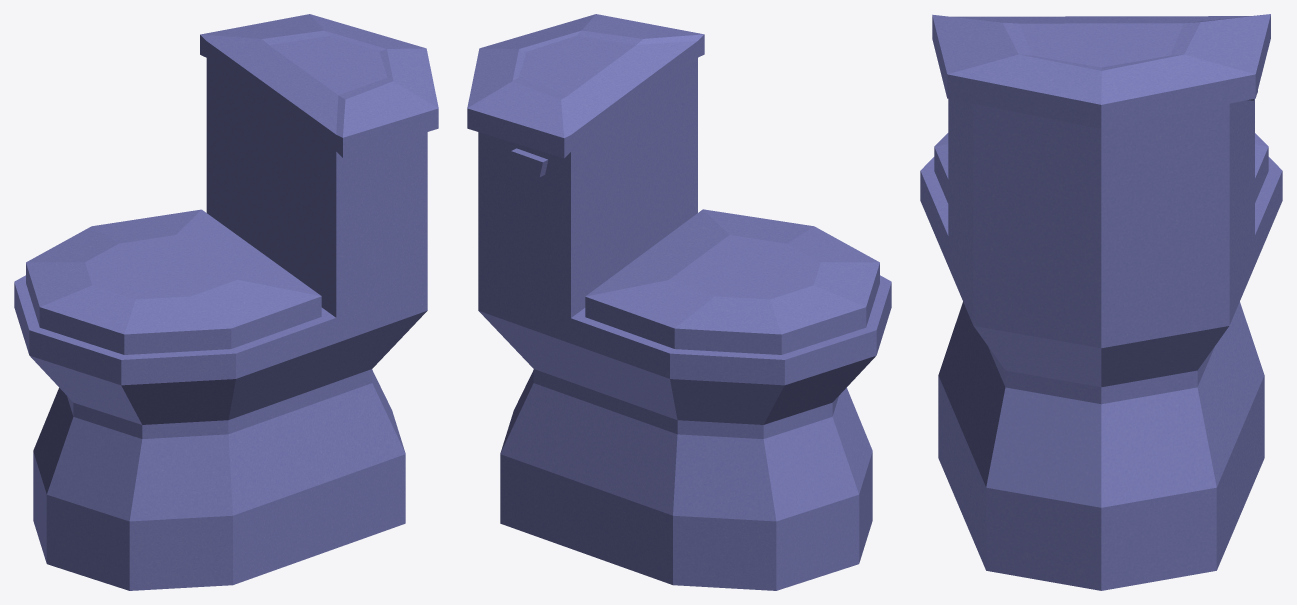
File: HLToilet.fbx
3 renders of one model, left to right at view 1: azimuth 30°, elevation 25°; view 2: azimuth 150°, elevation 25°; view 3: azimuth 270°, elevation 25°, orthographic. The views are drawn at different scales.
Visible parts, largest first — view 1: HLToilet; view 2: HLToilet; view 3: HLToilet.
Part boxes in pixels (x1=…): HLToilet: x1=14, y1=14, x2=438, y2=590; HLToilet: x1=467, y1=14, x2=891, y2=590; HLToilet: x1=920, y1=14, x2=1282, y2=590.
Bounding box in the file's own units: 74.09 × 77.01 × 48.87.
